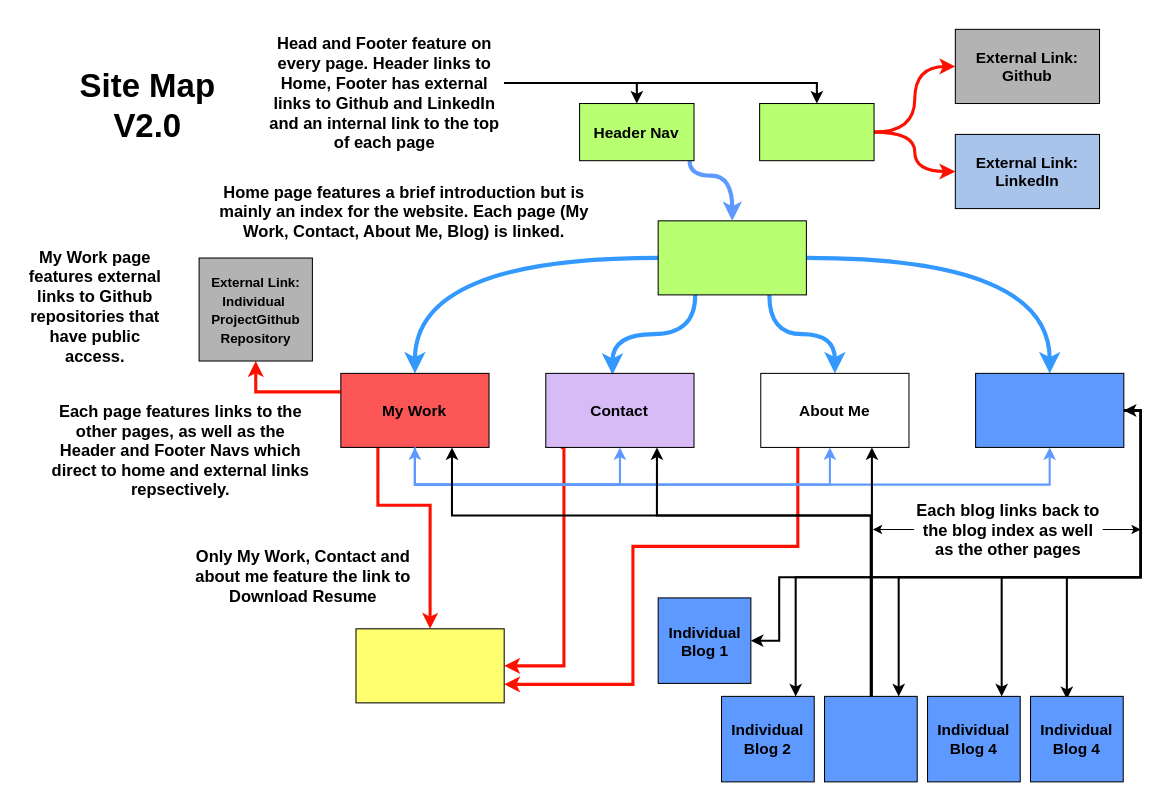
Some shapes in this 1168 by 800 pixel diagram are drawn without their labels. The centre of each missing label's shape, as x and y in pixels:
"Blog Index" goes at [1049,409].
"Download Resume" goes at [429,665].
"Footer Nav" goes at [816,131].
"Home" goes at [731,257].
"Individual Blog 3" goes at [870,738].
